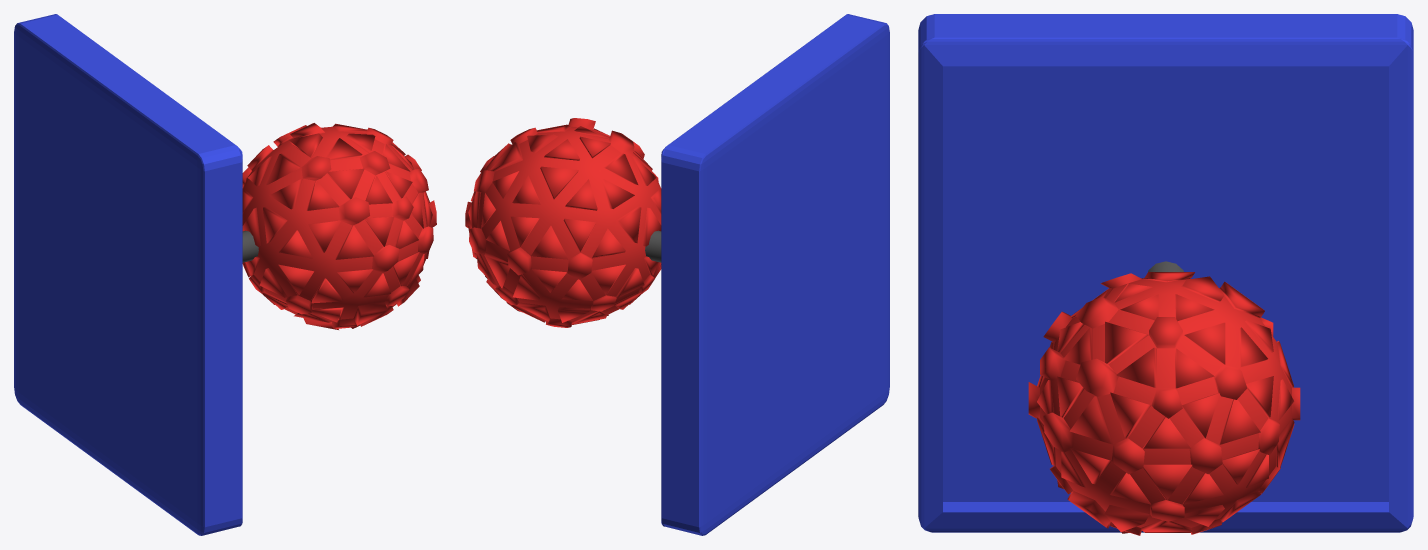
Rendered from ObsBall.fbx.
3 renders of one model, left to right at view 1: azimuth 30°, elevation 25°; view 2: azimuth 150°, elevation 25°; view 3: azimuth 270°, elevation 25°, orthographic. The views are drawn at different scales.
Parts seen in each view (by area): view 1: ball-obstacle; view 2: ball-obstacle; view 3: ball-obstacle.
Boxes of the visible parts, left/top/right/bottom form: ball-obstacle: left=14, top=14, right=436, bottom=535; ball-obstacle: left=465, top=14, right=889, bottom=535; ball-obstacle: left=918, top=14, right=1413, bottom=535.
Bounding box in the file's own units: 115 × 133 × 121.
